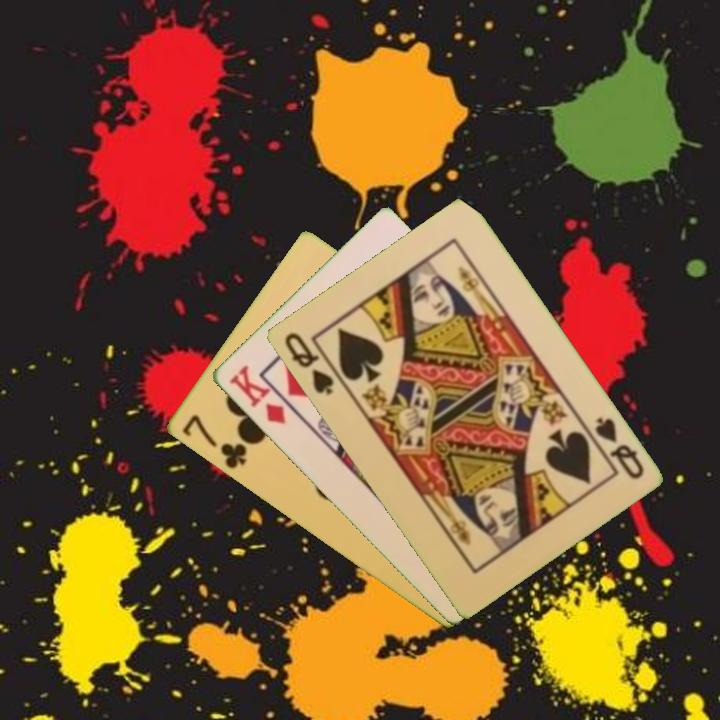7c: (178, 411, 250, 472)
Kd: (225, 361, 289, 427)
Qs: (582, 413, 646, 482), (280, 328, 336, 398)
